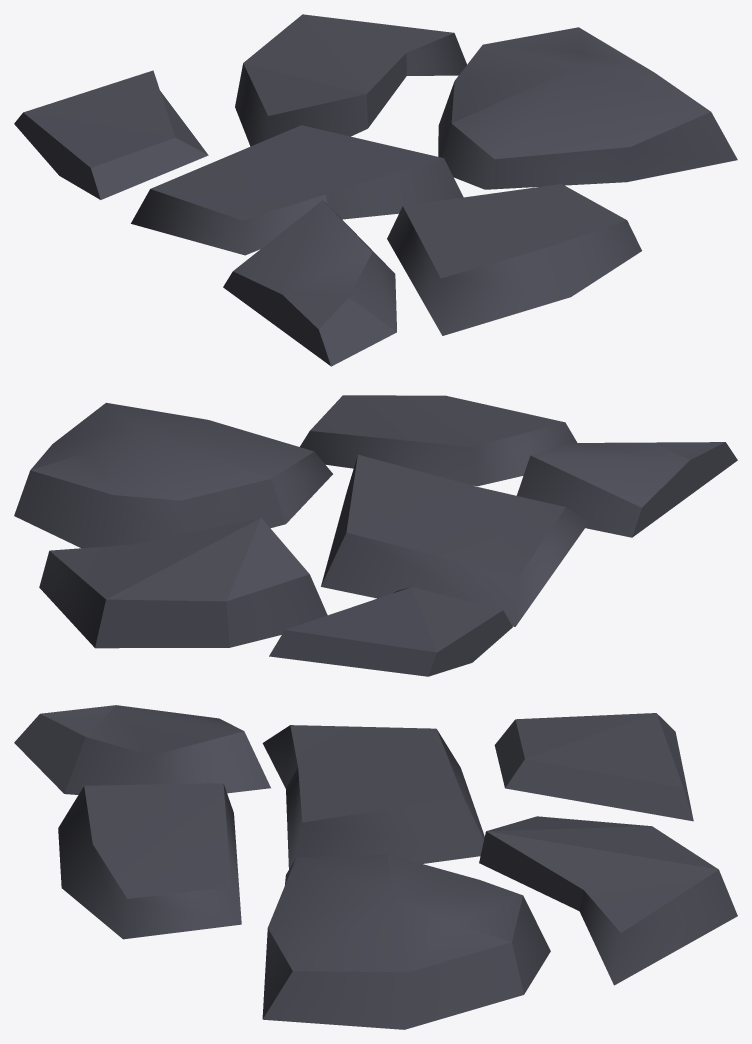
Rendered from Stone_Path_Ending_R.fbx.
3 views of the same model, one above another, from view 1: azimuth 30°, elevation 25°; view 2: azimuth 150°, elevation 25°; view 3: azimuth 270°, elevation 25° (orthographic). The views are drawn at different scales.
Parts seen in each view (by area): view 1: Stone_Path_Ending_R; view 2: Stone_Path_Ending_R; view 3: Stone_Path_Ending_R.
Boxes of the visible parts, box(x1,y1,x2,y2) form: Stone_Path_Ending_R: box(14, 14, 737, 366); Stone_Path_Ending_R: box(14, 395, 737, 676); Stone_Path_Ending_R: box(14, 705, 737, 1029).
Size of the model in its own units: 84.64 by 13.92 by 94.6.
